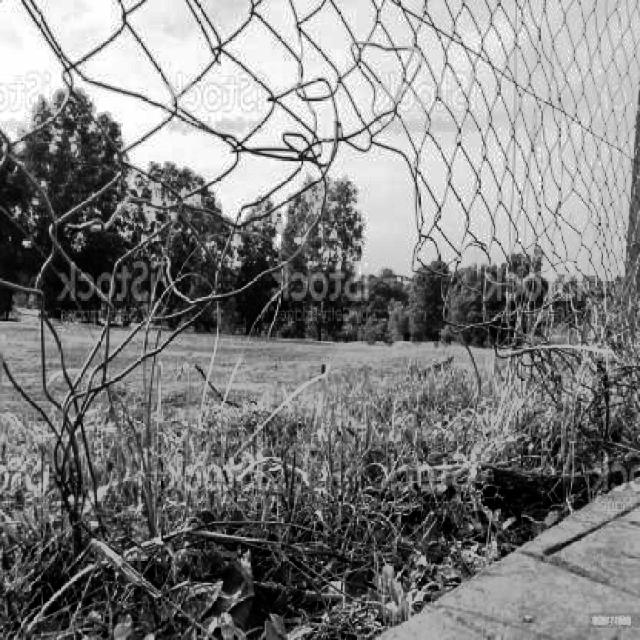anomaly-fence: (13, 126, 632, 610)
